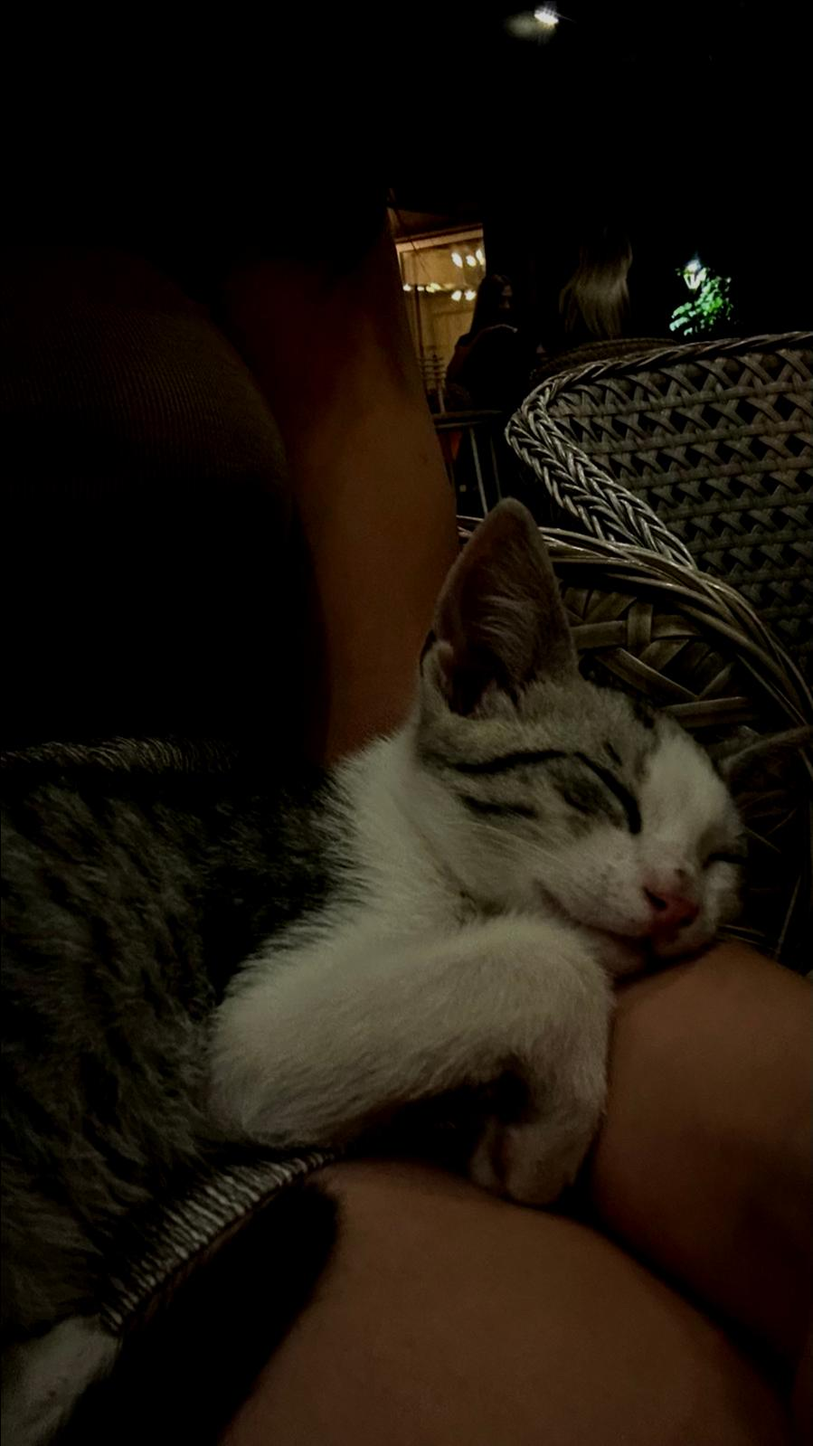macka: (0, 495, 812, 1445)
